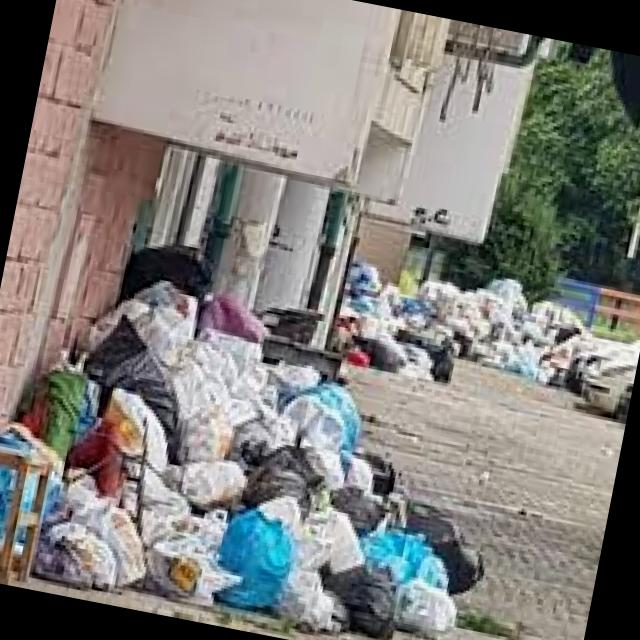garbage: (0, 173, 584, 640)
